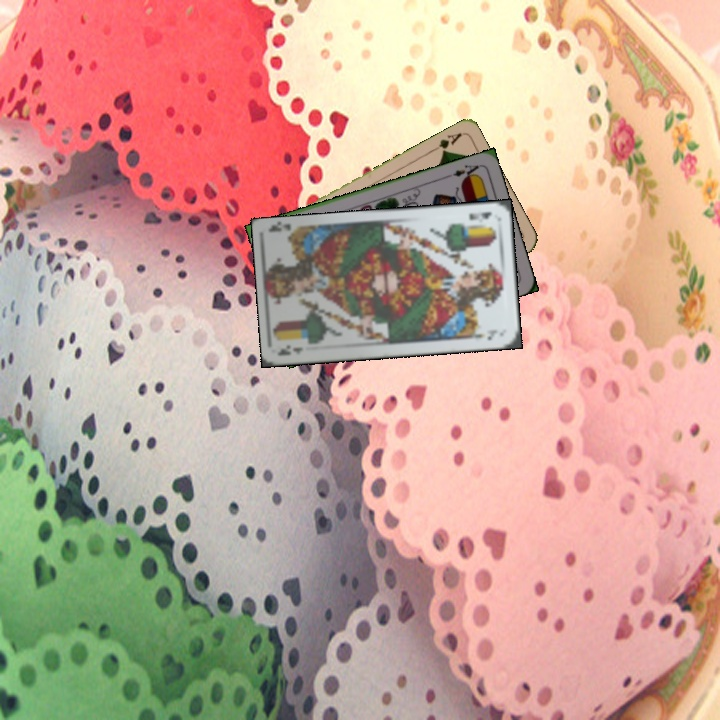EA: (443, 161, 481, 182)
EK: (276, 341, 306, 359), (465, 207, 493, 223)
GA: (427, 128, 464, 156)
